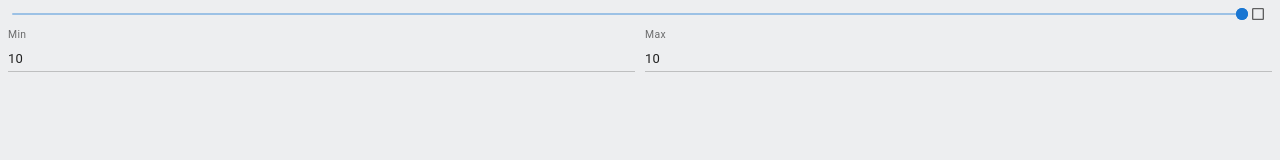
Test: ContinuousFilterControl › shows the clamped bound even when the clamp matches the committed value
Replace the text in the field labelled "Min" with "50" at (322,59), box top-left (8, 49), bottom-right (635, 69)
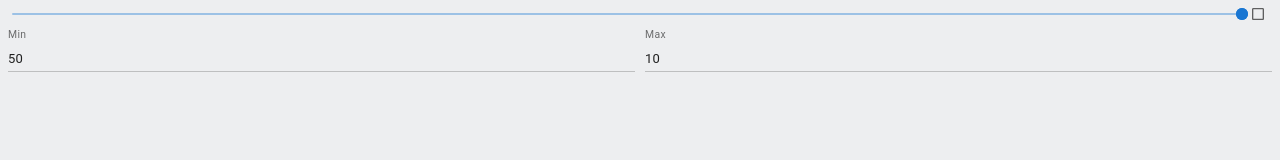
Leave the field labelled "Min", box top-left (8, 49), bottom-right (635, 69)
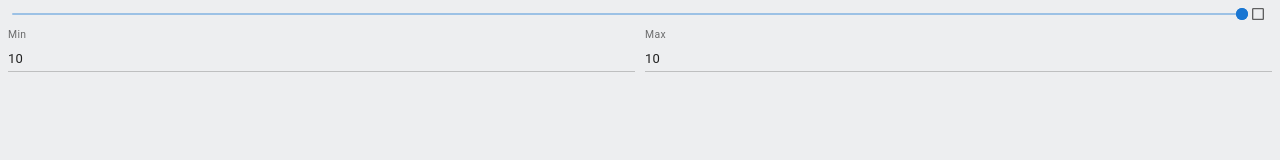
Expected: the field labelled "Min" holds "10", top-left (8, 49), bottom-right (635, 69)
